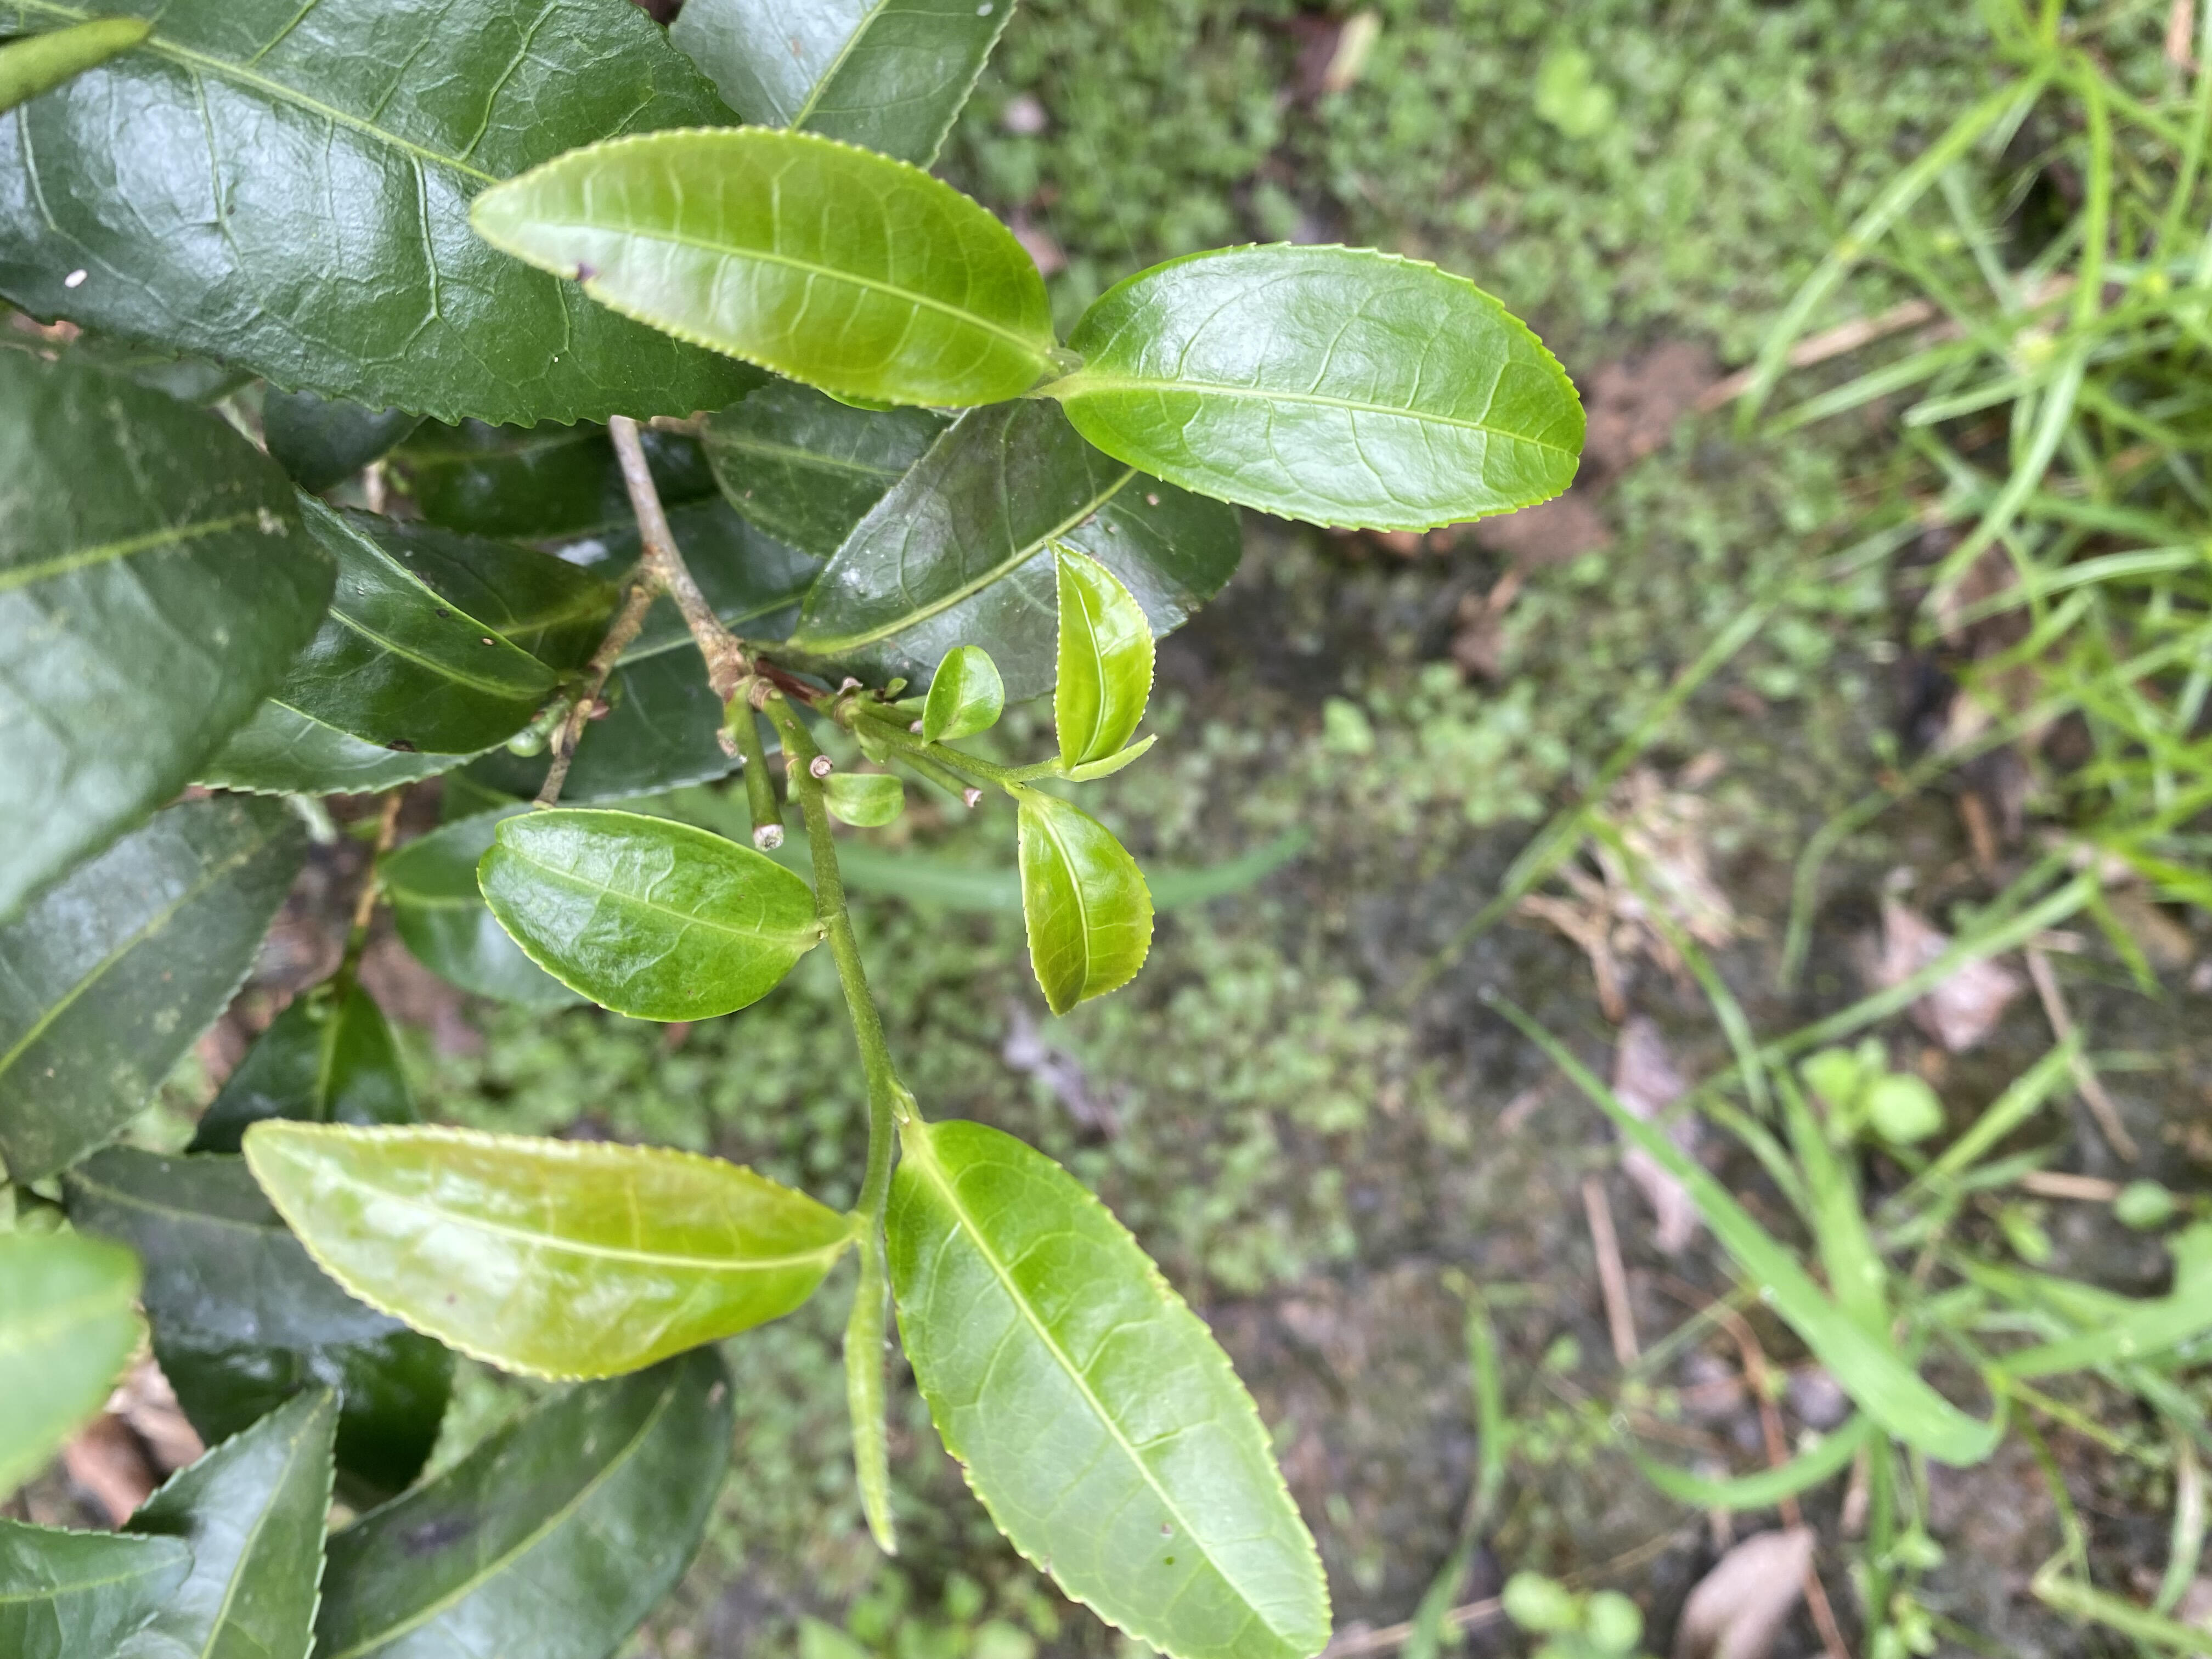healthy: (888, 1115, 1338, 1652), (1069, 240, 1590, 540), (479, 810, 826, 1025), (1015, 788, 1151, 1018), (1052, 547, 1153, 767)
tanju_low: (467, 125, 1057, 411), (237, 1115, 846, 1384)
